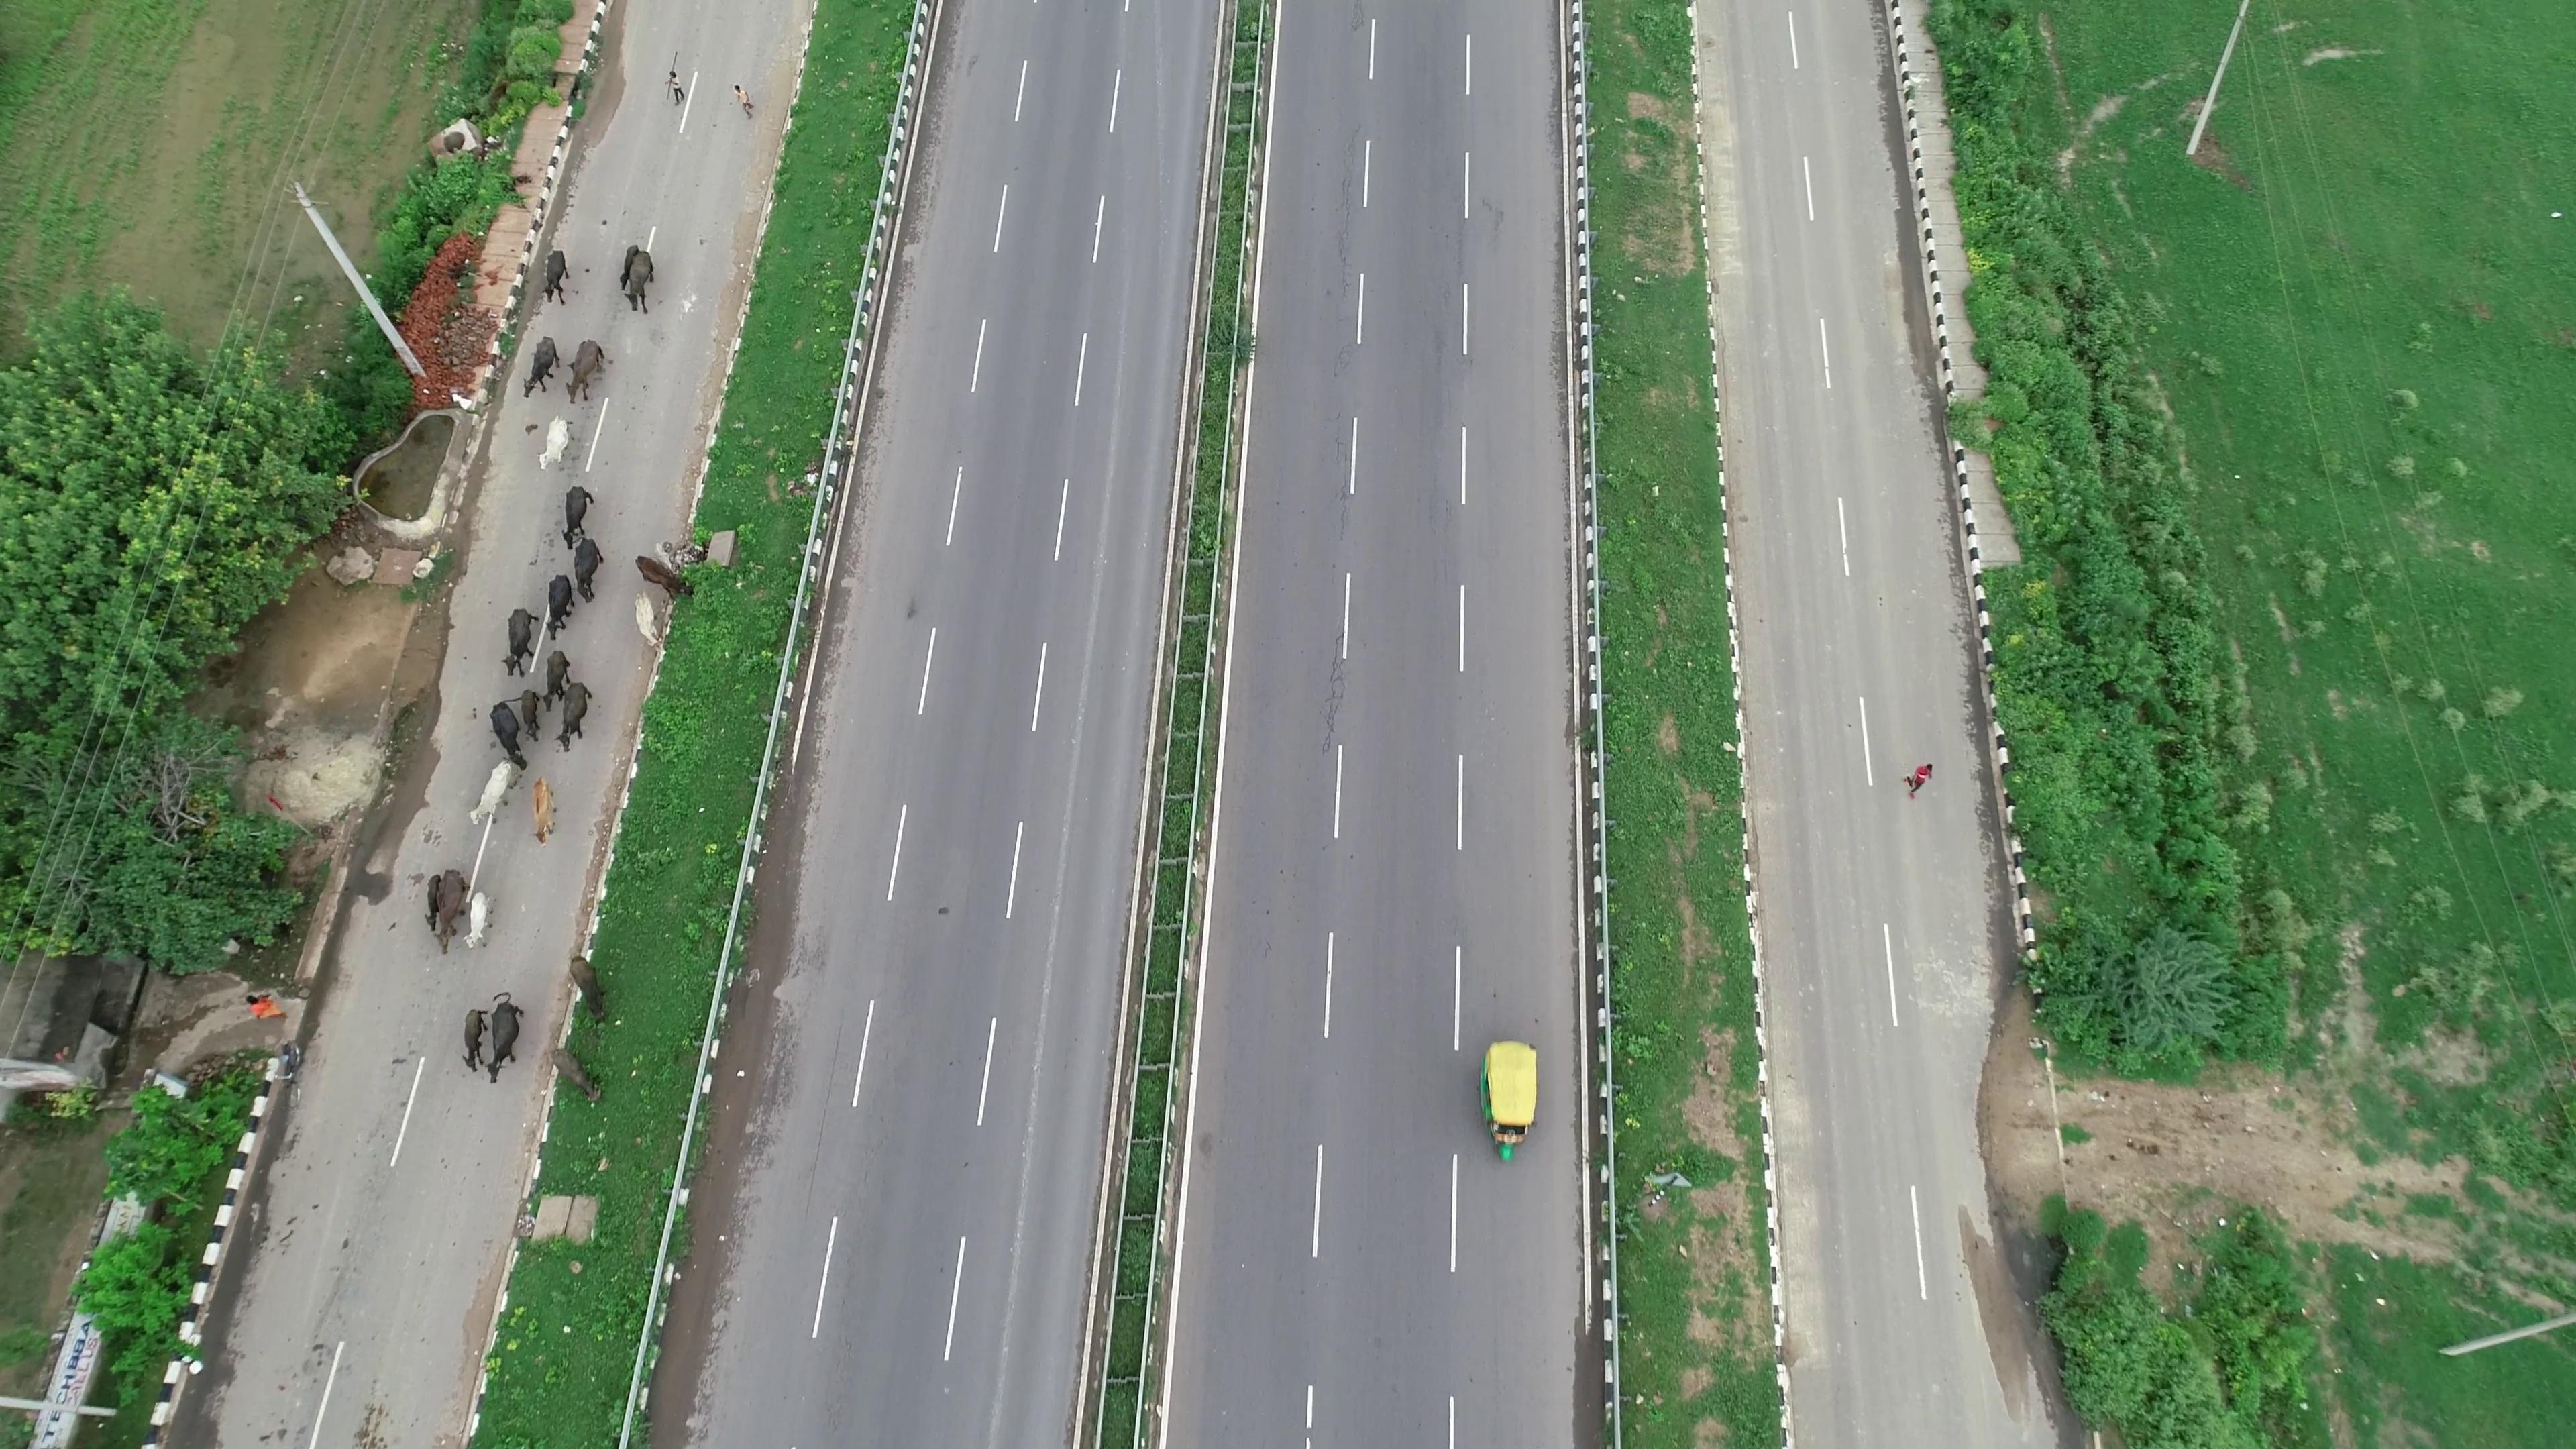Longitudinal_cracks: (1322, 127, 1364, 527), (1315, 628, 1366, 763)
